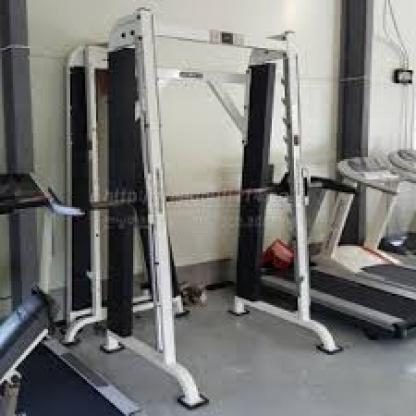smith machine: (64, 7, 342, 412)
